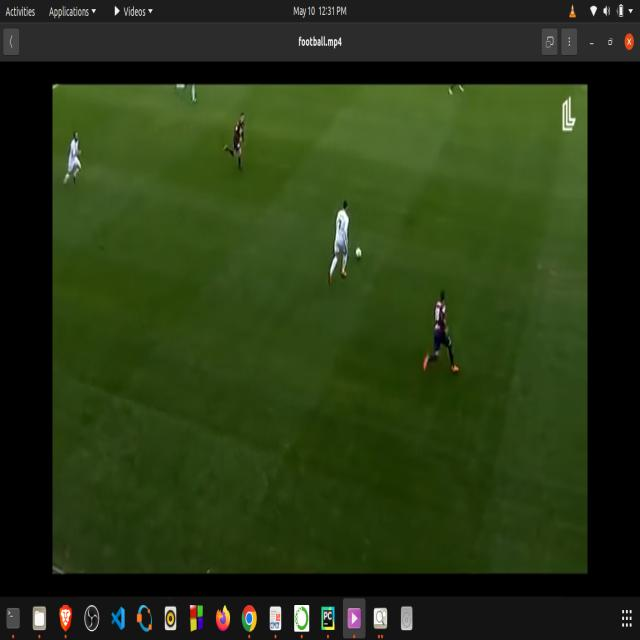Ball: (352, 241, 366, 263)
football-players: (422, 286, 466, 391), (326, 190, 352, 288), (222, 99, 252, 181), (58, 124, 84, 195)
